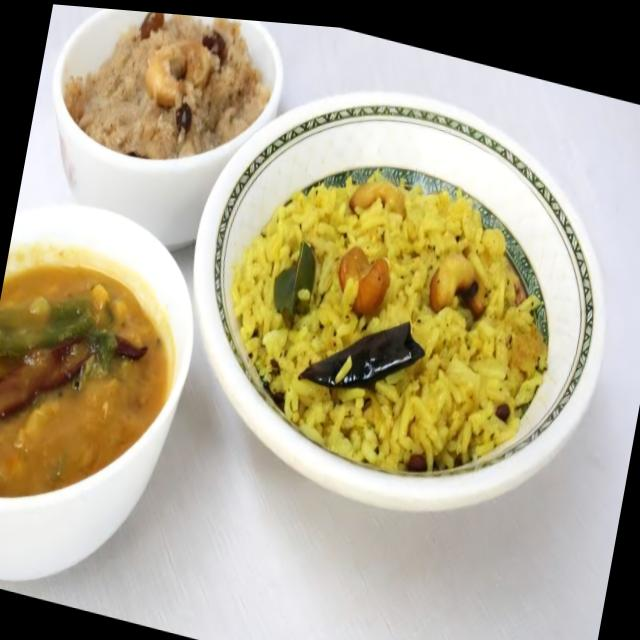RICE: (224, 174, 543, 469)
SAMBAR: (0, 258, 169, 495)
SWEET: (65, 12, 271, 157)
